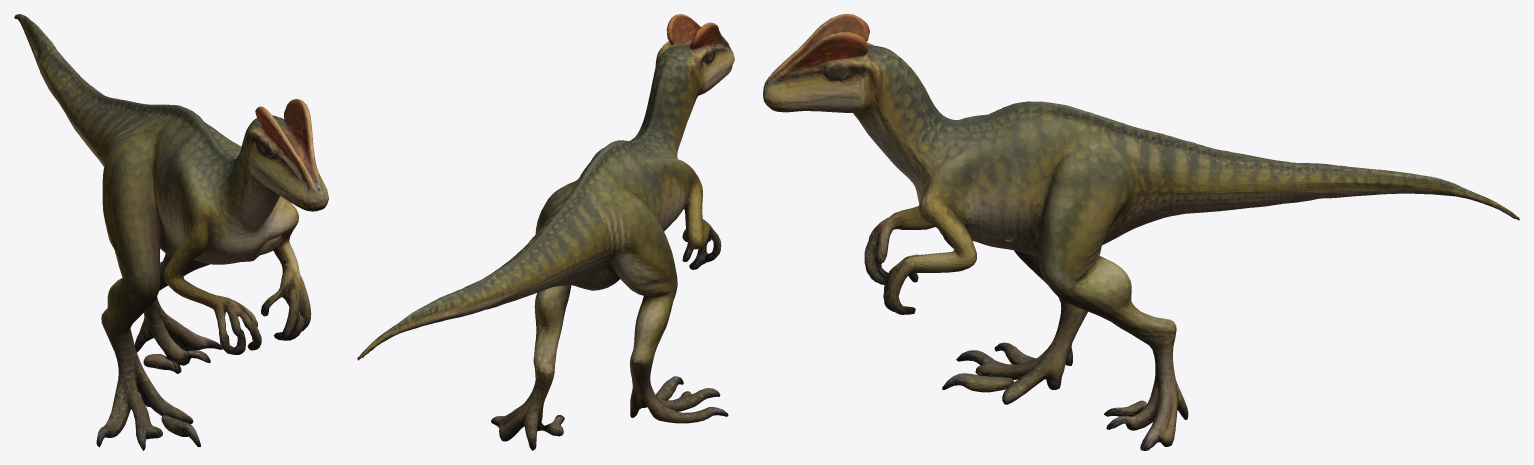
The picture shows the model from 3 angles, left to right: view 1: azimuth 30°, elevation 25°; view 2: azimuth 150°, elevation 25°; view 3: azimuth 270°, elevation 25°; orthographic projection. The views are drawn at different scales.
Visible parts, largest first — view 1: world; view 2: world; view 3: world.
Boxes of the visible parts, x1,y1,x2,y2 form: world: (14, 14, 328, 450); world: (357, 14, 734, 450); world: (763, 14, 1519, 450).
Size of the model in its own units: 0.3079 by 0.5651 by 0.983.
1 material, 1 textured.
